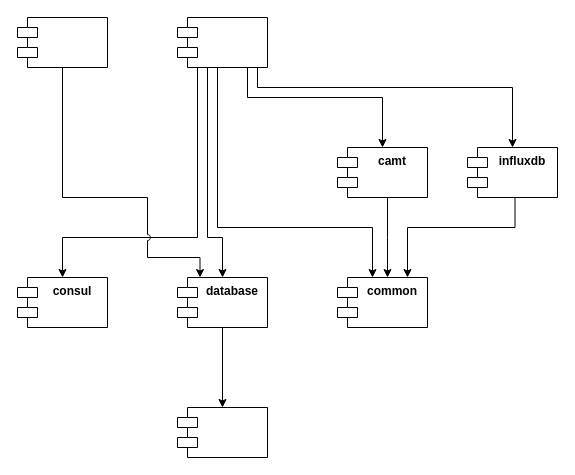
This 575x475 diagram has some shape labels left out. Each missing label, with the box of its shape:
entities: (176, 406, 268, 458)
exporter: (16, 16, 108, 68)
importer: (176, 16, 268, 68)
